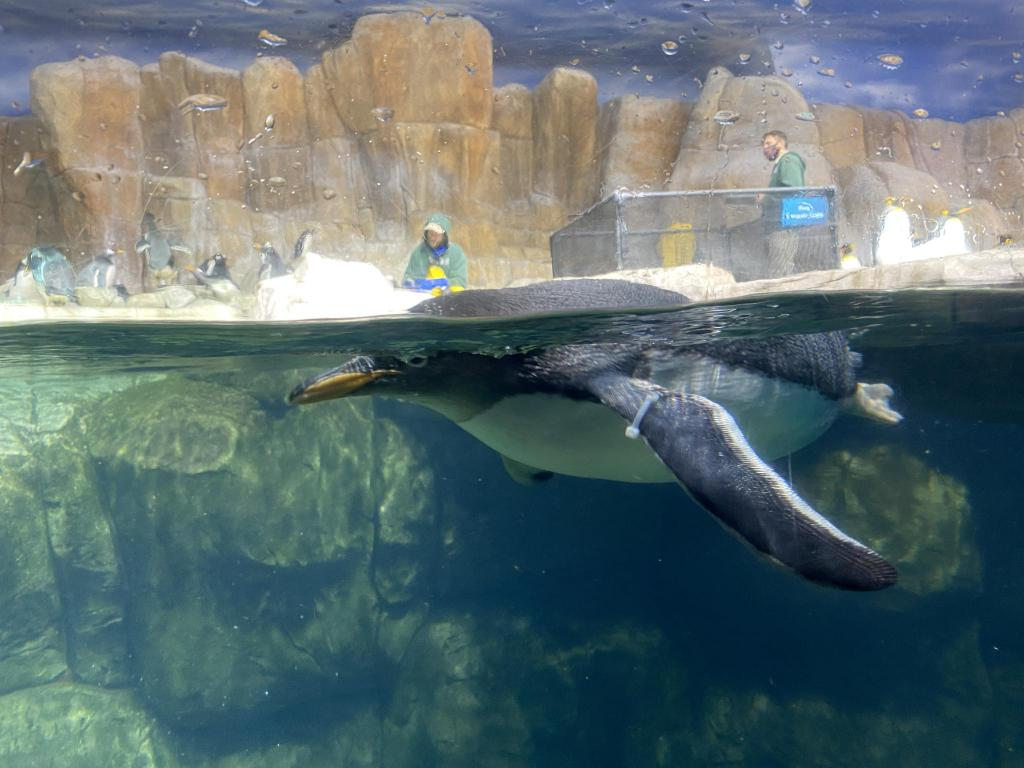penguin: (286, 278, 904, 592), (136, 213, 188, 277), (29, 246, 81, 304), (876, 195, 912, 265), (78, 246, 124, 288), (932, 205, 972, 253), (2, 252, 32, 300), (251, 240, 285, 282), (198, 251, 232, 289), (835, 241, 861, 271), (296, 226, 318, 260), (995, 232, 1017, 256)
